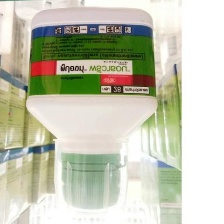insecticide: (23, 4, 160, 216)
